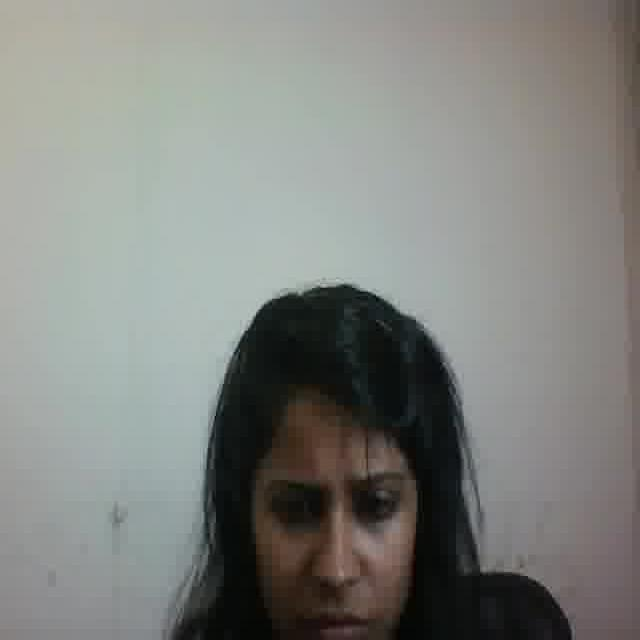Frustration: (247, 400, 414, 640)
